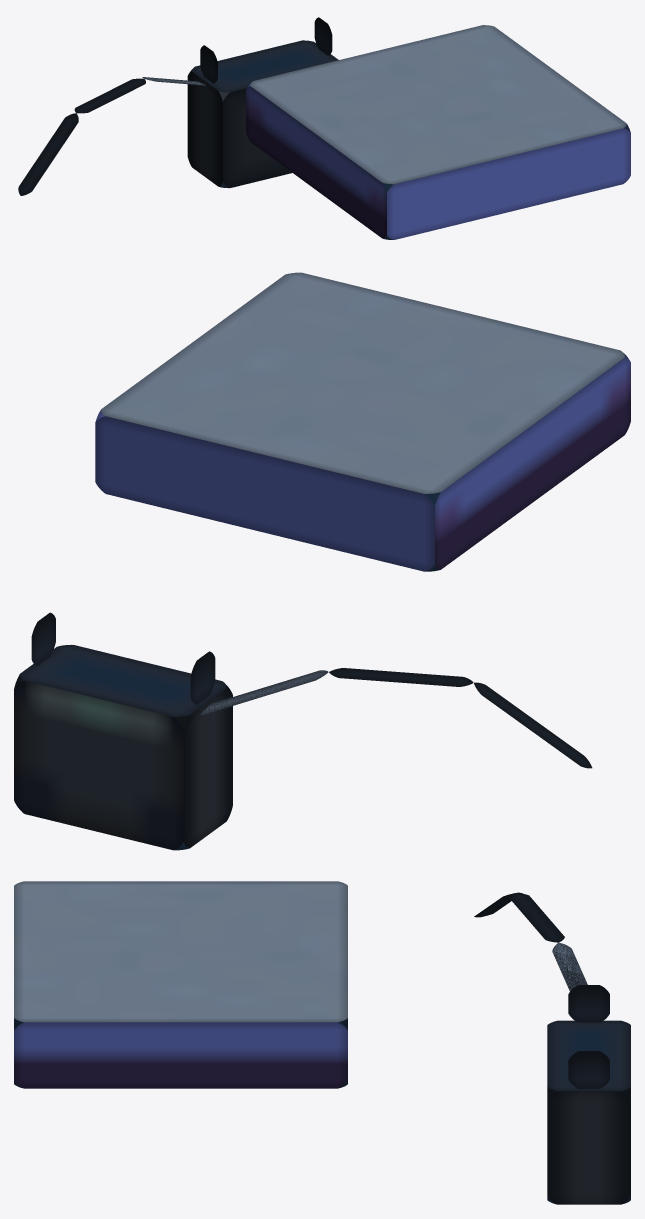
Rendered from m1_underbody_equipment_4.obj.
3 renders of one model, top to bottom at view 1: azimuth 30°, elevation 25°; view 2: azimuth 150°, elevation 25°; view 3: azimuth 270°, elevation 25°, orthographic. The views are drawn at different scales.
Parts seen in each view (by area): view 1: part_996044beba6dd9fc1cc16d4b4c2c5041, part_cf3c640fc49de8b794e572c5e8d5d0cb, part_88d571372d6f62436d4c336740c3be18, part_f2653f446a2405dbc6e38a3ec3462e4c, part_8e5d46742d5678f8810ef0b7d642dbde, part_1627125a84ad014a4c6bafe2c184973a; view 2: part_996044beba6dd9fc1cc16d4b4c2c5041, part_cf3c640fc49de8b794e572c5e8d5d0cb, part_88d571372d6f62436d4c336740c3be18, part_f2653f446a2405dbc6e38a3ec3462e4c, part_a110071de493e3e4f0282e650fb6d1f5, part_1627125a84ad014a4c6bafe2c184973a, part_8e5d46742d5678f8810ef0b7d642dbde; view 3: part_996044beba6dd9fc1cc16d4b4c2c5041, part_cf3c640fc49de8b794e572c5e8d5d0cb, part_8e5d46742d5678f8810ef0b7d642dbde, part_1627125a84ad014a4c6bafe2c184973a, part_f2653f446a2405dbc6e38a3ec3462e4c, part_a110071de493e3e4f0282e650fb6d1f5.
Part boxes in pixels (left/top/right/bottom): part_996044beba6dd9fc1cc16d4b4c2c5041: left=246, top=25, right=630, bottom=239; part_cf3c640fc49de8b794e572c5e8d5d0cb: left=187, top=40, right=338, bottom=188; part_88d571372d6f62436d4c336740c3be18: left=18, top=113, right=78, bottom=195; part_f2653f446a2405dbc6e38a3ec3462e4c: left=74, top=78, right=145, bottom=113; part_8e5d46742d5678f8810ef0b7d642dbde: left=314, top=17, right=332, bottom=55; part_1627125a84ad014a4c6bafe2c184973a: left=200, top=45, right=217, bottom=83; part_996044beba6dd9fc1cc16d4b4c2c5041: left=95, top=272, right=630, bottom=571; part_cf3c640fc49de8b794e572c5e8d5d0cb: left=14, top=644, right=232, bottom=850; part_88d571372d6f62436d4c336740c3be18: left=474, top=682, right=592, bottom=768; part_f2653f446a2405dbc6e38a3ec3462e4c: left=329, top=668, right=473, bottom=686; part_a110071de493e3e4f0282e650fb6d1f5: left=200, top=670, right=328, bottom=714; part_1627125a84ad014a4c6bafe2c184973a: left=190, top=651, right=215, bottom=704; part_8e5d46742d5678f8810ef0b7d642dbde: left=31, top=612, right=55, bottom=665; part_996044beba6dd9fc1cc16d4b4c2c5041: left=14, top=881, right=347, bottom=1088; part_cf3c640fc49de8b794e572c5e8d5d0cb: left=547, top=1020, right=630, bottom=1204; part_8e5d46742d5678f8810ef0b7d642dbde: left=568, top=1051, right=609, bottom=1088; part_1627125a84ad014a4c6bafe2c184973a: left=568, top=985, right=609, bottom=1022; part_f2653f446a2405dbc6e38a3ec3462e4c: left=509, top=893, right=564, bottom=942; part_a110071de493e3e4f0282e650fb6d1f5: left=552, top=942, right=587, bottom=991.
Size of the model in its own units: 1.7 by 0.7188 by 1.85.
